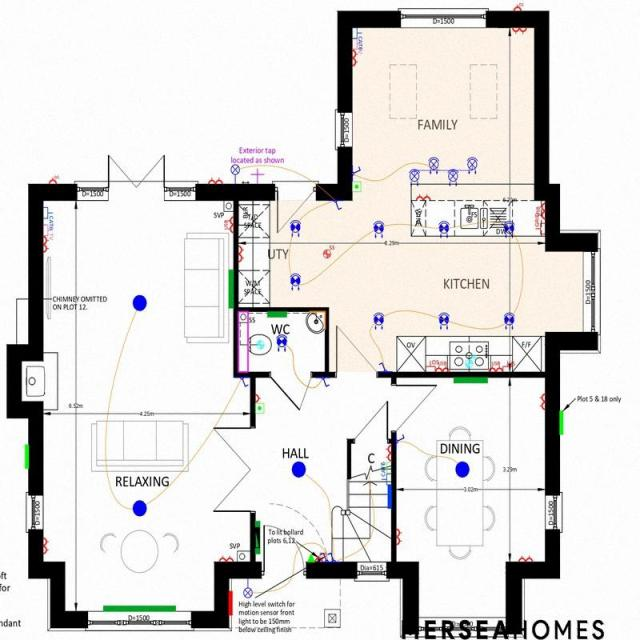BT Entry Point: (306, 554, 314, 560)
Cat 6 Data Socket: (42, 207, 53, 230), (352, 26, 362, 49), (380, 462, 390, 484)
Ceiling Mounted Continuous Extract FanWith Boost Mode Activated By Light Switch: (255, 339, 263, 348)
Ceiling Mounted Continuous Extract FanWith Local Boost Switch: (322, 244, 333, 258)
Co-Ax TV Socket: (351, 38, 362, 52), (42, 224, 52, 239)
Consumer Unit: (255, 526, 259, 548)
Double Socket: (512, 26, 526, 34), (384, 444, 391, 460), (206, 176, 222, 183), (42, 236, 49, 252), (538, 392, 544, 410), (395, 527, 401, 545), (416, 193, 430, 200), (352, 50, 358, 66), (218, 554, 234, 560), (238, 244, 243, 262), (518, 554, 532, 560), (42, 538, 48, 552)
Electric Meter Box: (228, 590, 232, 614)
External Wall Light: (242, 578, 252, 596), (230, 164, 238, 182)
Gas Meter Box: (558, 410, 562, 434), (24, 444, 28, 468)
Grid Switch: (534, 214, 544, 234)
Hob Switch: (502, 360, 514, 371)
Light Switch: (332, 199, 342, 209), (319, 551, 328, 561), (395, 433, 404, 442), (320, 377, 329, 386), (240, 377, 248, 387), (352, 166, 361, 174), (378, 361, 386, 370), (327, 552, 335, 561)
Low Energy Downlighter: (502, 220, 514, 237), (289, 272, 300, 290), (372, 311, 383, 329), (290, 218, 300, 237), (503, 312, 514, 329), (373, 220, 383, 238), (438, 311, 448, 329), (276, 333, 286, 351), (438, 220, 448, 237)
Low Energy Pendant Light: (454, 460, 469, 477), (290, 461, 305, 477), (132, 499, 146, 516), (132, 294, 146, 310)
Outside Socket: (314, 552, 327, 561), (48, 174, 58, 183), (513, 2, 522, 10)
Outside Tap: (250, 166, 263, 182)
Oven Switch: (424, 360, 438, 370)
Programmable Room Thermostat: (351, 180, 361, 191), (254, 402, 264, 412)
Radiator: (102, 605, 176, 611), (254, 520, 260, 554), (227, 269, 232, 307), (453, 377, 487, 382), (266, 310, 286, 316)
Recirculating Extractor Fan: (465, 353, 475, 366)
Single Socket: (254, 392, 260, 402)
Telephone Socket: (381, 461, 390, 473)
Track Light: (408, 156, 478, 186)
USB Double Socket: (222, 215, 233, 232), (435, 360, 449, 371), (535, 202, 544, 218), (488, 361, 502, 370)
Underfloor Heating Manifold: (386, 484, 390, 508)
